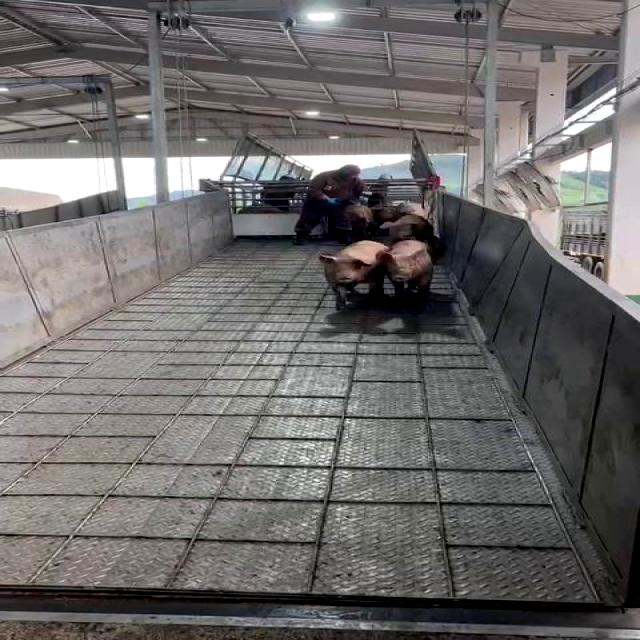pig: (321, 241, 387, 308), (387, 240, 432, 302)
